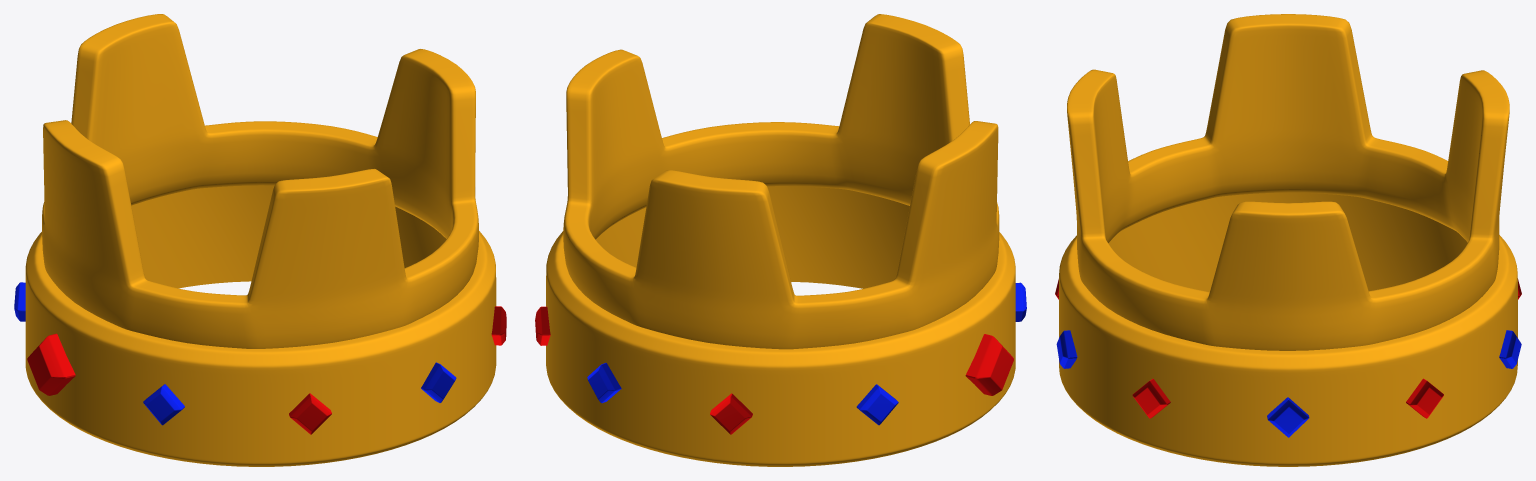
Rendered from Crown_RF.fbx.
The picture shows the model from 3 angles, left to right: view 1: azimuth 30°, elevation 25°; view 2: azimuth 150°, elevation 25°; view 3: azimuth 270°, elevation 25°; orthographic projection. The views are drawn at different scales.
Visible parts, largest first — view 1: pCylinder2; view 2: pCylinder2; view 3: pCylinder2.
Boxes of the visible parts, left/top/right/bottom form: pCylinder2: left=14, top=14, right=506, bottom=466; pCylinder2: left=535, top=14, right=1026, bottom=466; pCylinder2: left=1055, top=14, right=1521, bottom=466.
Bounding box in the file's own units: 13.88 × 8.3 × 13.18.
